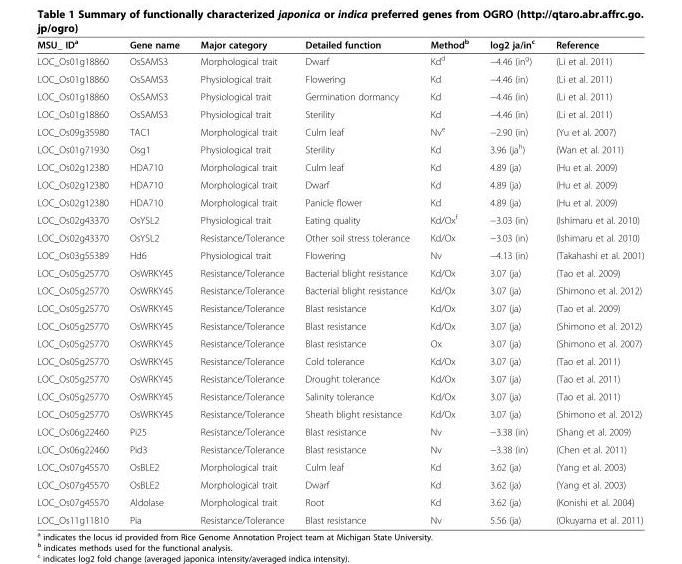table: (36, 37, 643, 525)
table column: (294, 37, 419, 525), (189, 37, 294, 525), (544, 37, 643, 525), (36, 37, 118, 525), (118, 37, 189, 525), (478, 37, 544, 525), (419, 37, 478, 525)
table column header: (36, 37, 643, 51)
table row: (36, 139, 643, 158), (36, 51, 643, 69), (36, 69, 643, 87), (36, 121, 643, 139), (36, 175, 643, 193), (36, 210, 643, 228), (36, 245, 643, 263), (36, 263, 643, 281), (36, 281, 643, 299), (36, 316, 643, 334), (36, 334, 643, 352), (36, 369, 643, 387), (36, 404, 643, 422), (36, 422, 643, 440), (36, 457, 643, 475), (36, 475, 643, 493), (36, 87, 643, 104), (36, 104, 643, 121), (36, 158, 643, 175), (36, 193, 643, 210), (36, 228, 643, 245), (36, 299, 643, 316), (36, 352, 643, 369), (36, 387, 643, 404), (36, 440, 643, 457), (36, 493, 643, 510), (36, 510, 643, 525), (36, 37, 643, 51)
